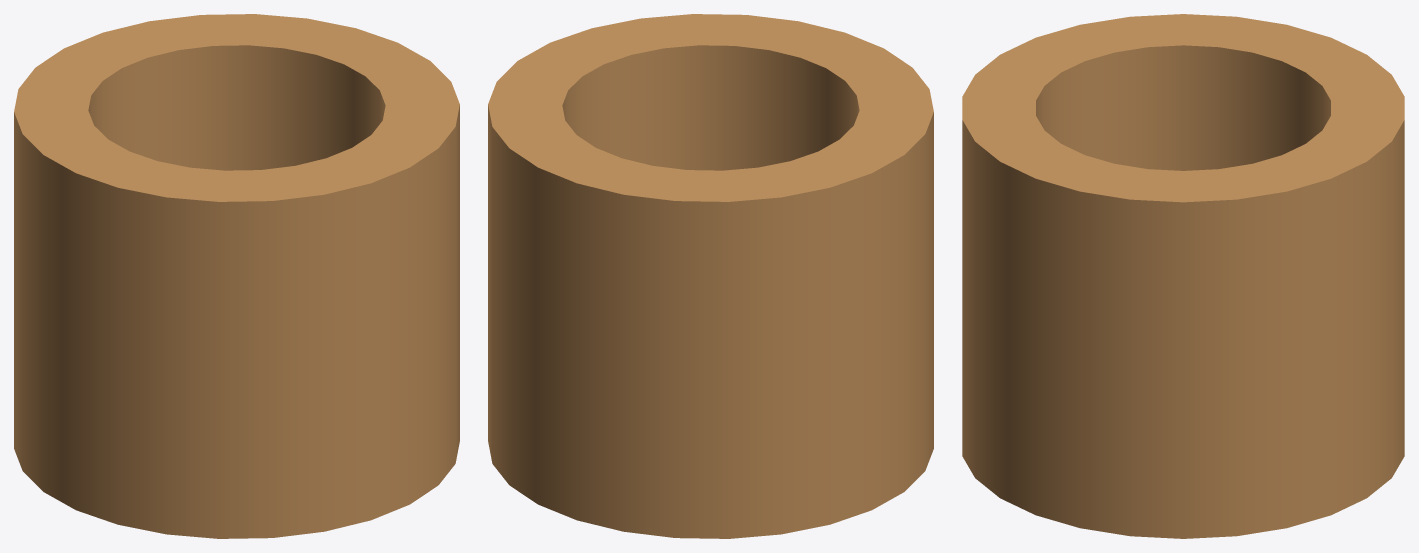
Rendered from standard-bushing.glb.
3 renders of one model, left to right at view 1: azimuth 30°, elevation 25°; view 2: azimuth 150°, elevation 25°; view 3: azimuth 270°, elevation 25°, orthographic.
Size of the model in its own units: 0.012 by 0.01 by 0.0119.
